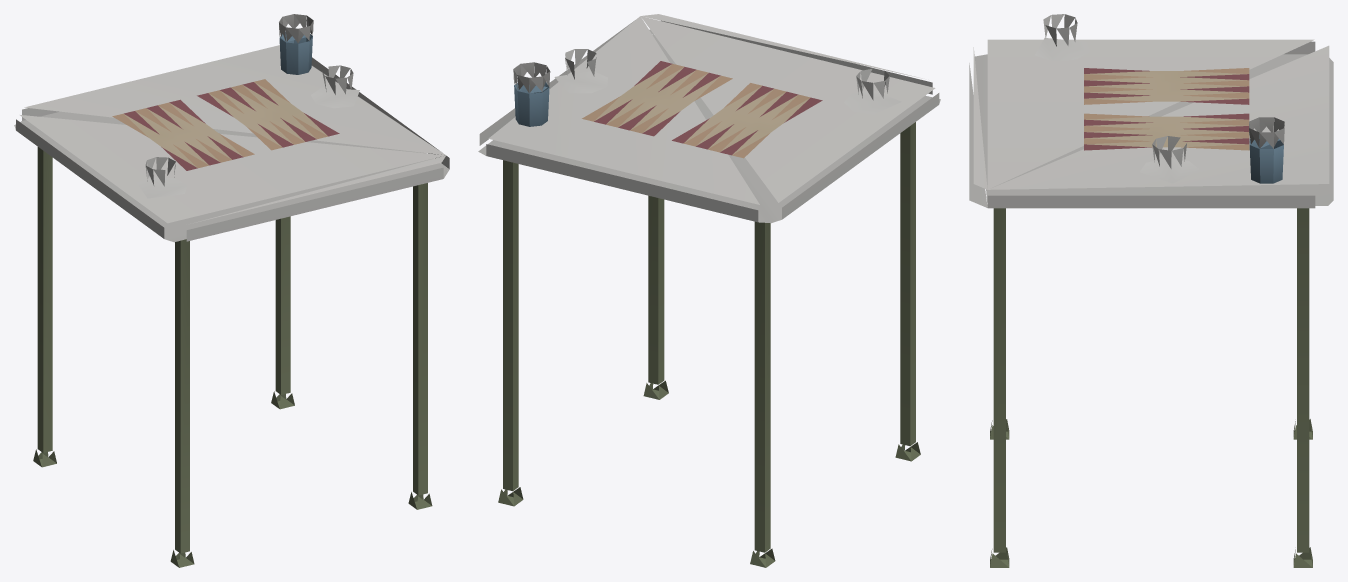
Rendered from kafe.lod.glb.
3 views of the same model, side by side, from view 1: azimuth 30°, elevation 25°; view 2: azimuth 150°, elevation 25°; view 3: azimuth 270°, elevation 25° (orthographic). The views are drawn at different scales.
Parts seen in each view (by area): view 1: kafe; view 2: kafe; view 3: kafe.
Part boxes in pixels (x1,y1,x2,y2): kafe: (14,14,449,567); kafe: (478,14,940,567); kafe: (969,14,1333,567).
Size of the model in its own units: 0.69 by 0.9142 by 0.69.
